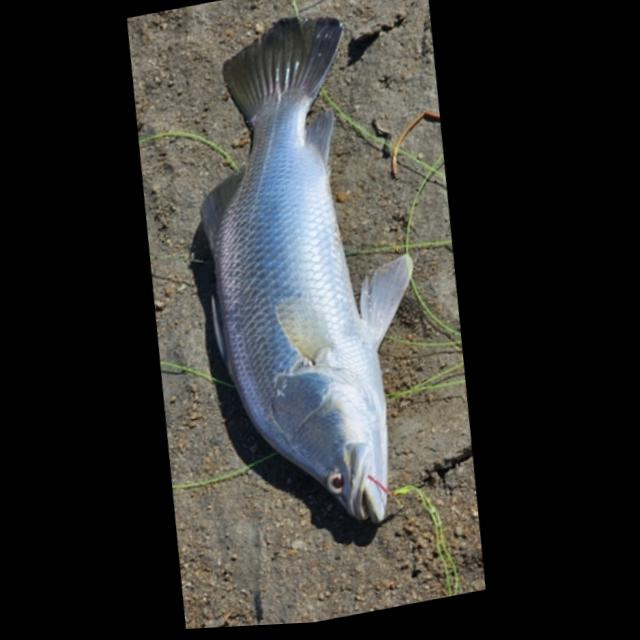Seabass: (159, 0, 458, 552)
